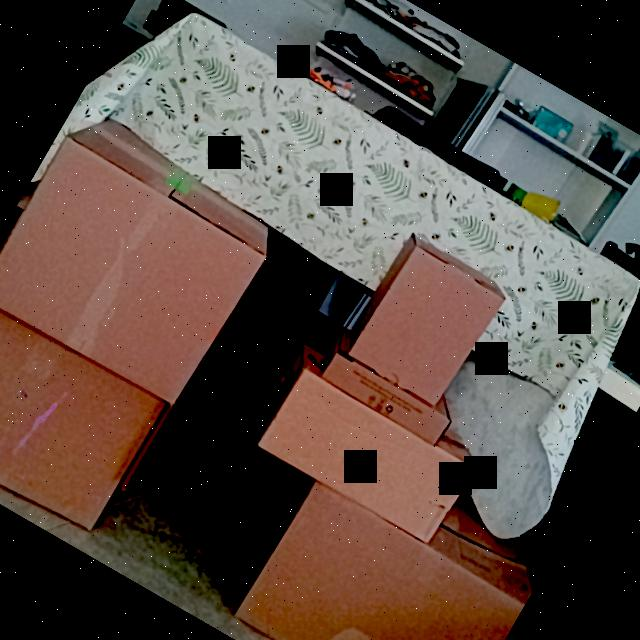box: (0, 136, 261, 407), (232, 480, 525, 640), (0, 283, 169, 539), (258, 367, 478, 547), (349, 248, 502, 409), (322, 352, 454, 447)
